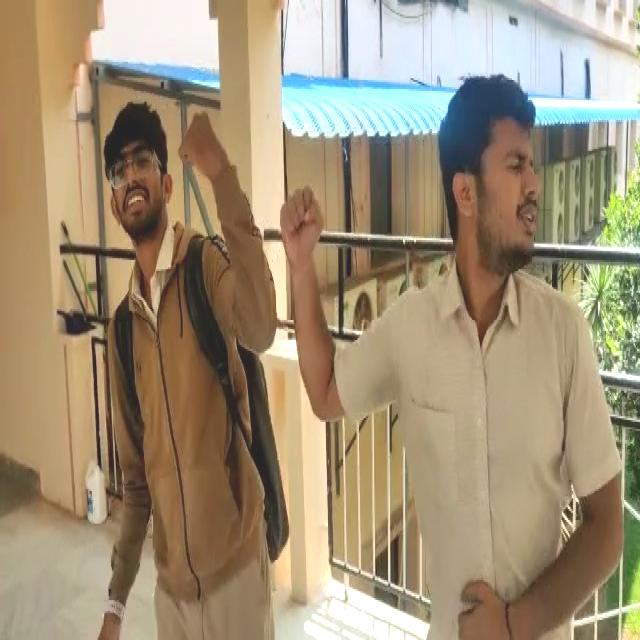fight: (53, 61, 611, 572)
